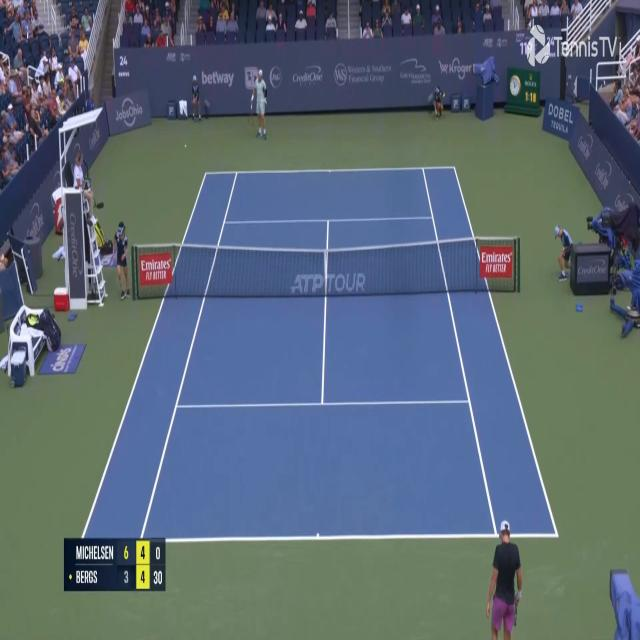tennis-player: (485, 516, 524, 640), (250, 67, 270, 140)
